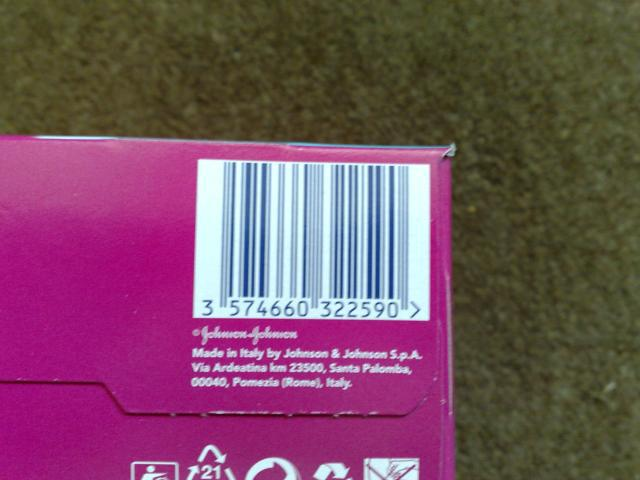Barkod: (218, 162, 410, 299)
